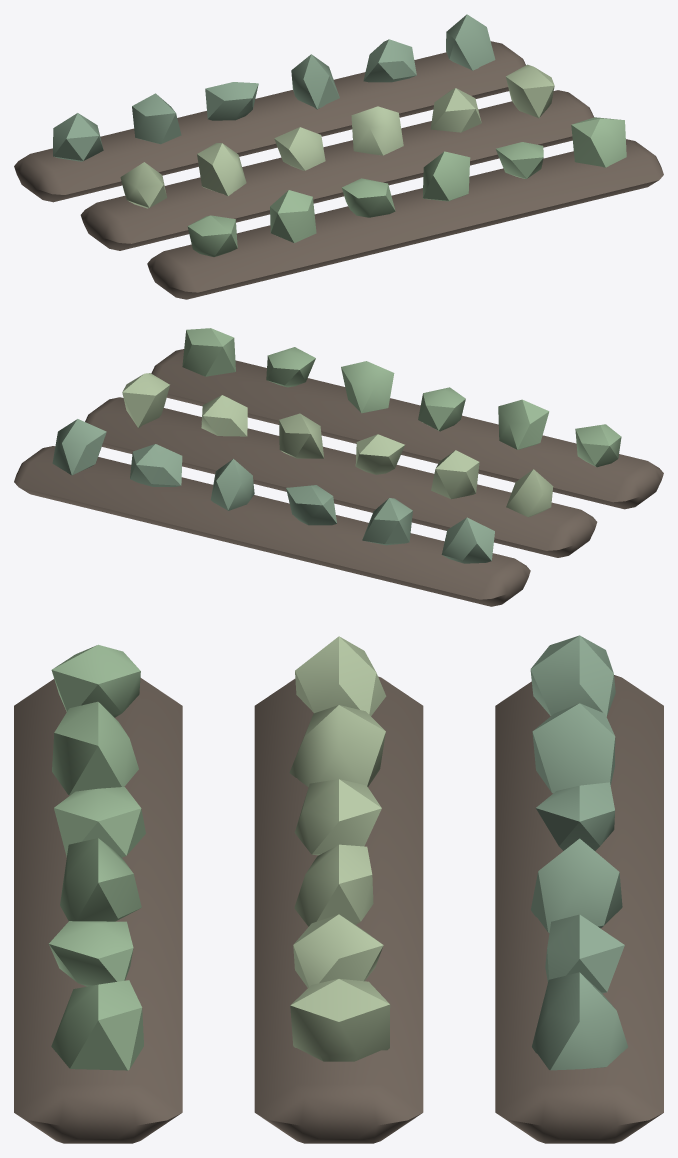
The model's file is veg_patch.gltf.
3 renders of one model, top to bottom at view 1: azimuth 30°, elevation 25°; view 2: azimuth 150°, elevation 25°; view 3: azimuth 270°, elevation 25°, orthographic. The views are drawn at different scales.
Parts seen in each view (by area): view 1: Body; view 2: Body; view 3: Body.
Boxes of the visible parts, x1=… form: Body: x1=14, y1=14, x2=663, y2=299; Body: x1=14, y1=328, x2=663, y2=606; Body: x1=14, y1=635, x2=663, y2=1143.
Bounding box in the file's own units: 3.4 × 0.5023 × 2.16.
